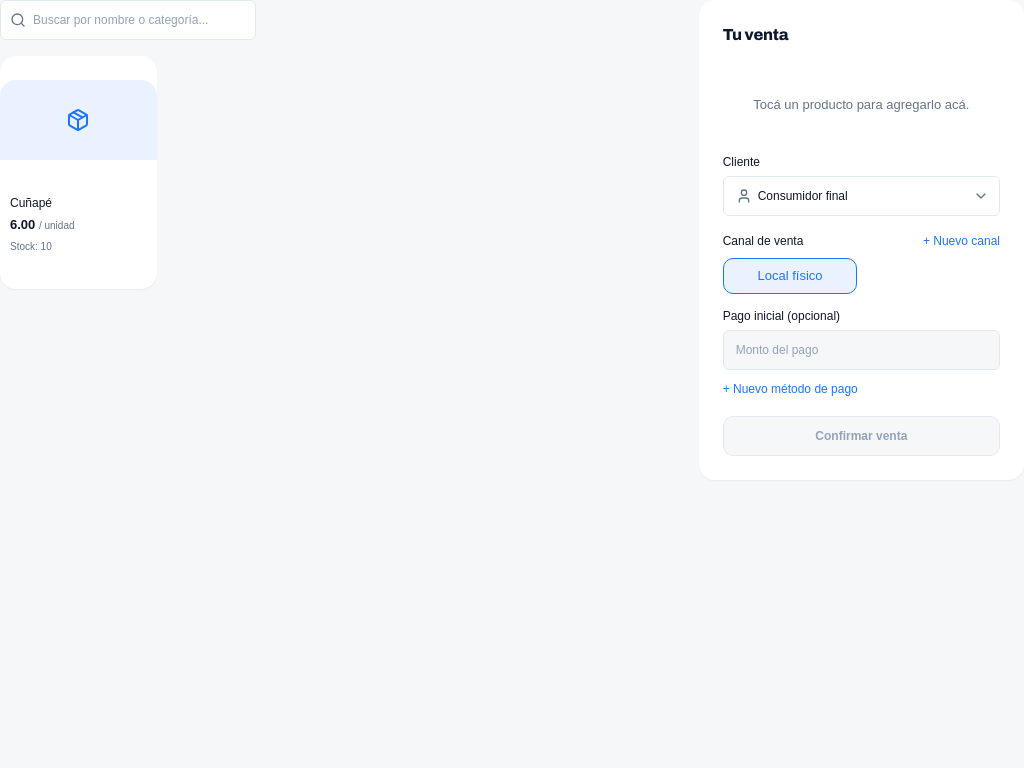
Punto de venta — bonificación › se puede quitar la bonificación y volver al total de lista
Click the text "Cuñapé". click: (31, 203)
box: x1=10 y1=196 x2=52 y2=210
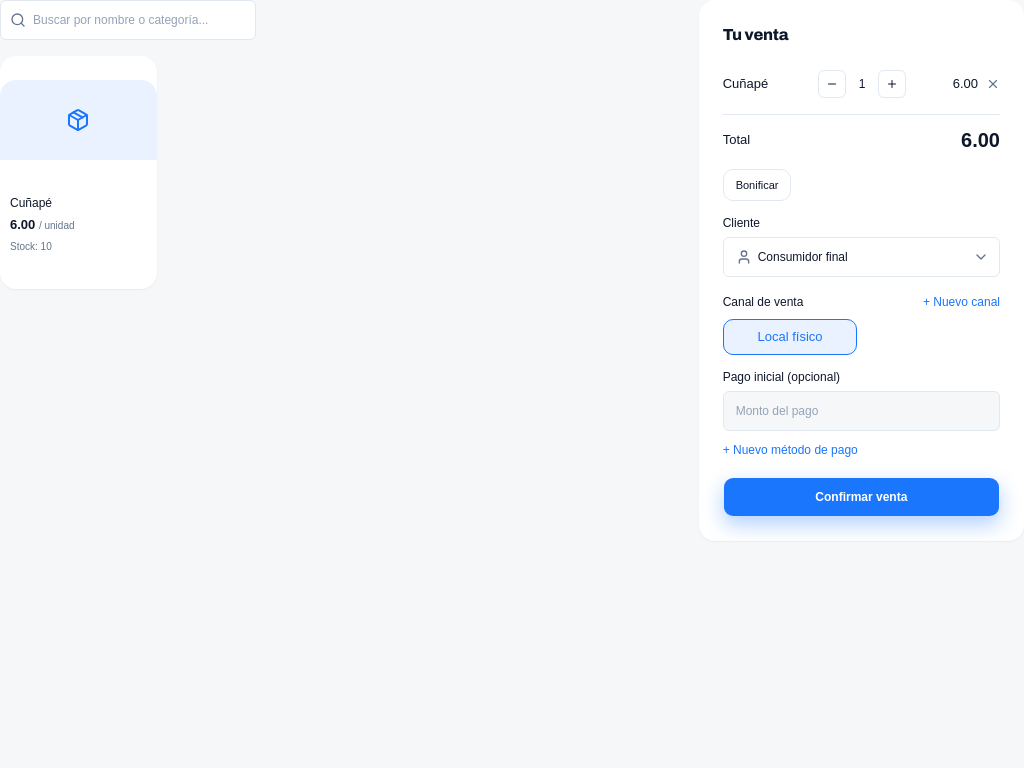
Click the button "Bonificar". click: (757, 185)
box: x1=723 y1=169 x2=792 y2=201
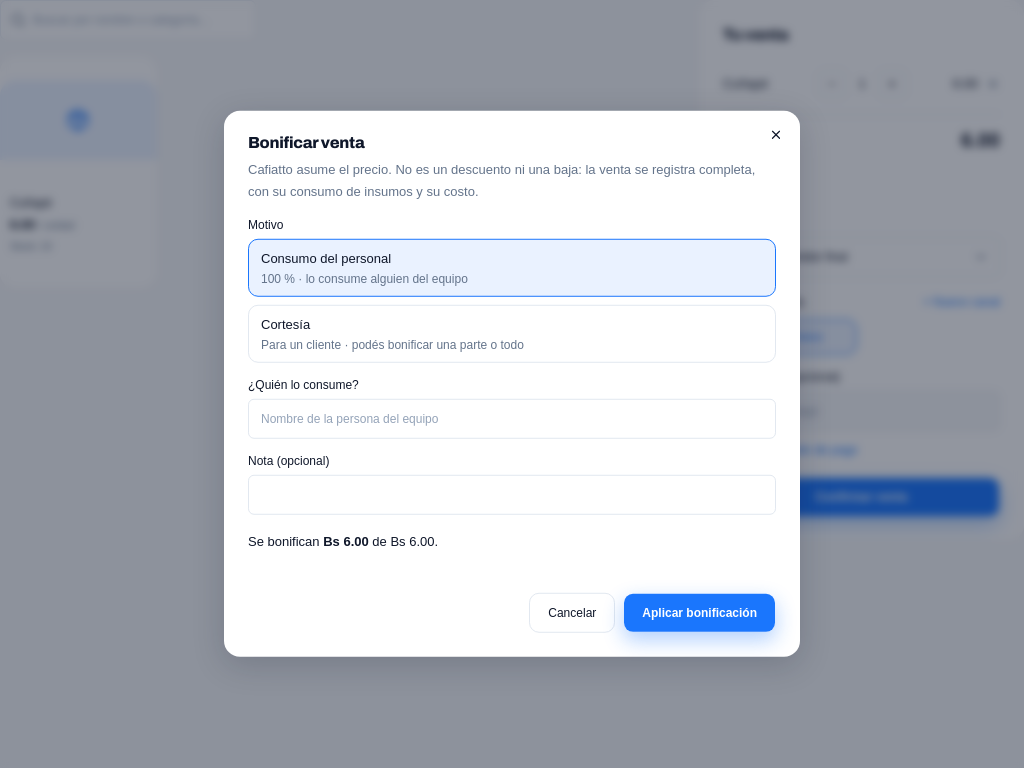
Type "Luis" into the field labelled "¿Quién lo consume?". click: (512, 419)
box: x1=248 y1=399 x2=776 y2=439
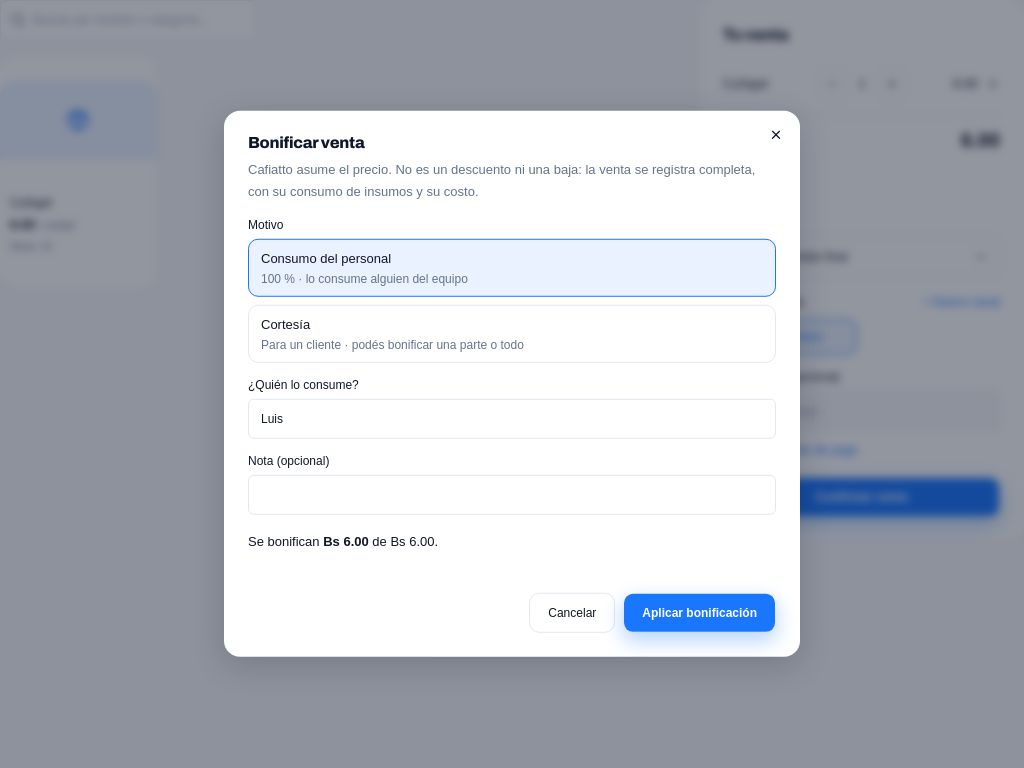
Click the button "Aplicar bonificación". click: (700, 613)
box: x1=623 y1=593 x2=776 y2=633
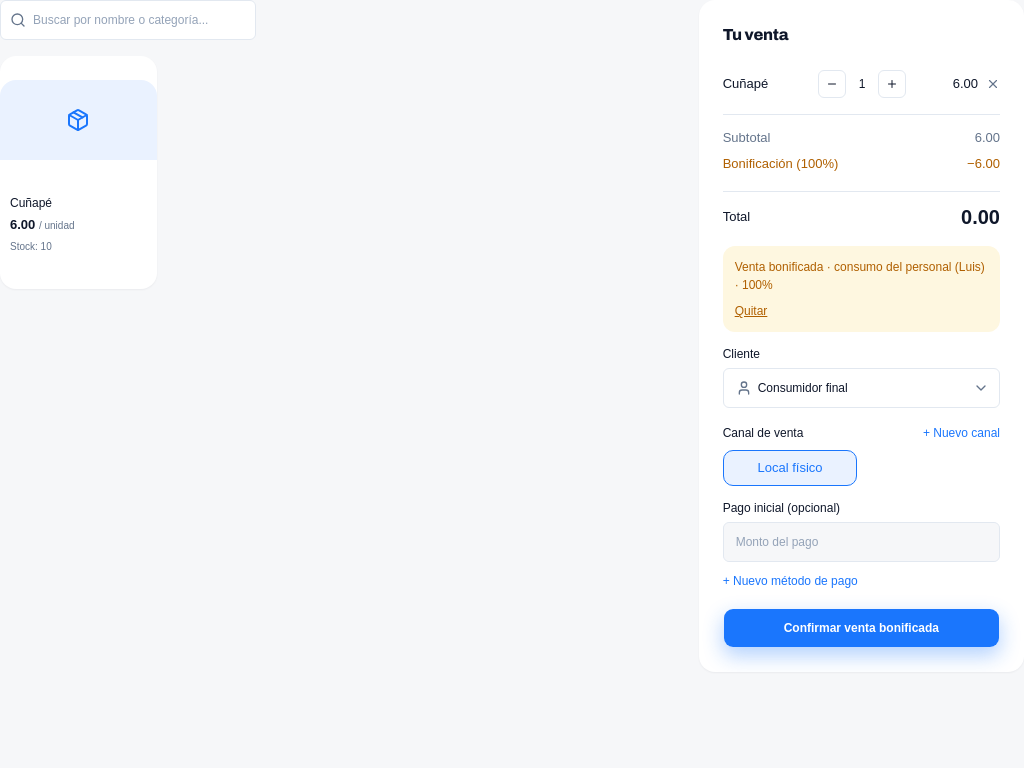
Click the button "Quitar". click: (751, 311)
box: x1=735 y1=302 x2=767 y2=320
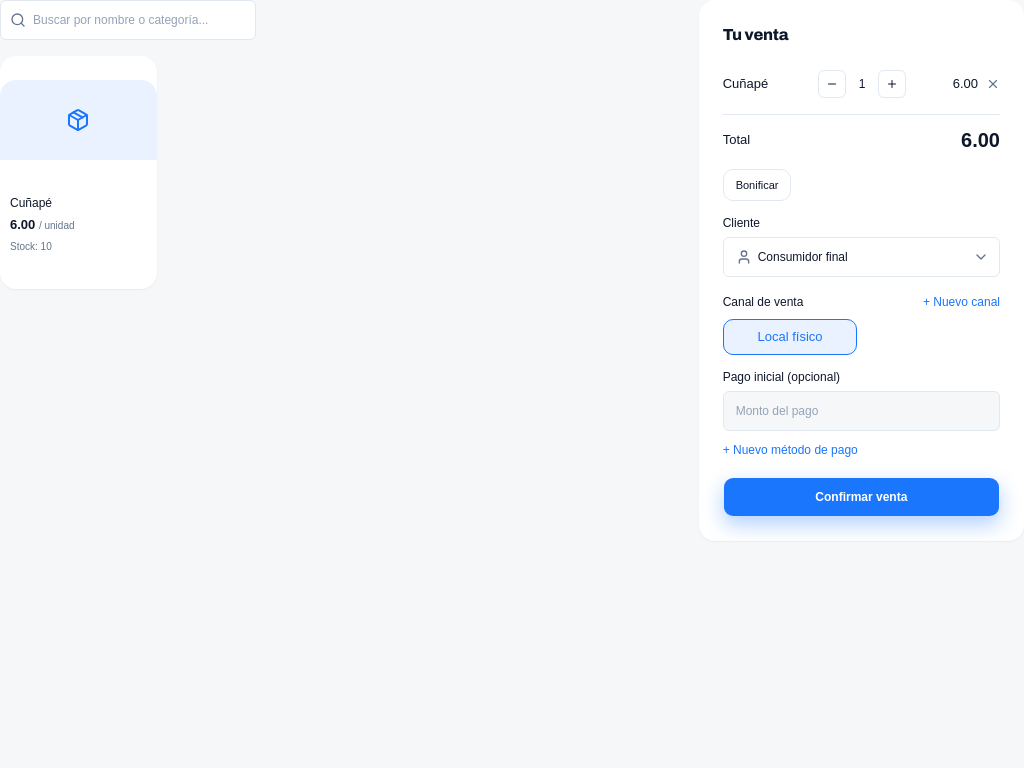
expect the button "Confirmar venta" is shown: met, box x1=723 y1=477 x2=1000 y2=517
expect the text "Venta bonificada" is gone: met
